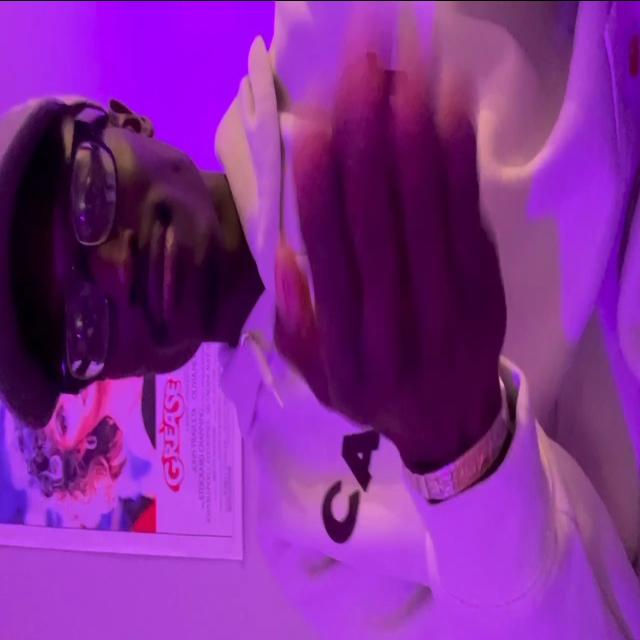Paper: (269, 49, 500, 476)
